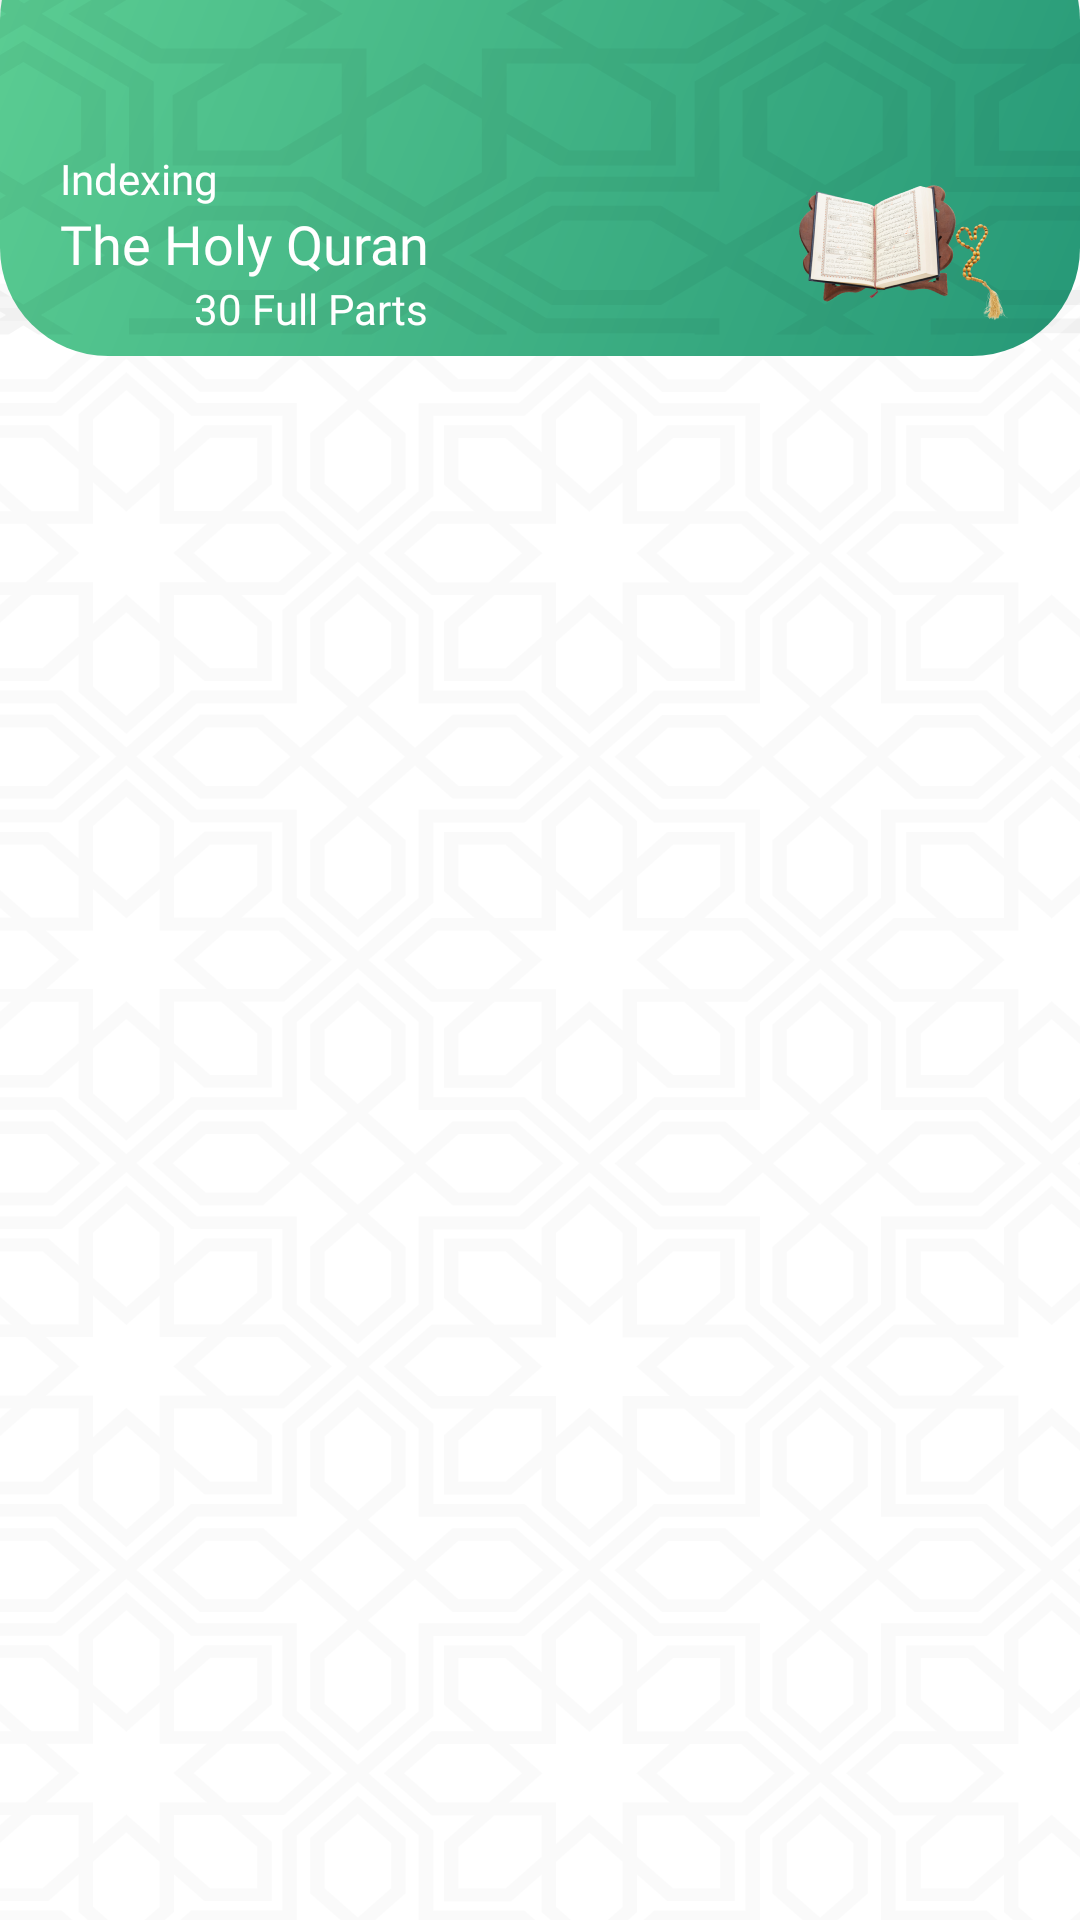

Where to tap for icons on this 1080×1920 app screen, as (x,y):
quran fragment: (902,252)
